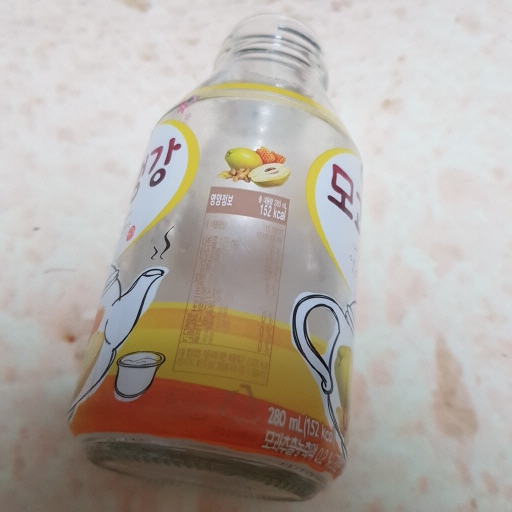Glass_4: (64, 13, 363, 501)
